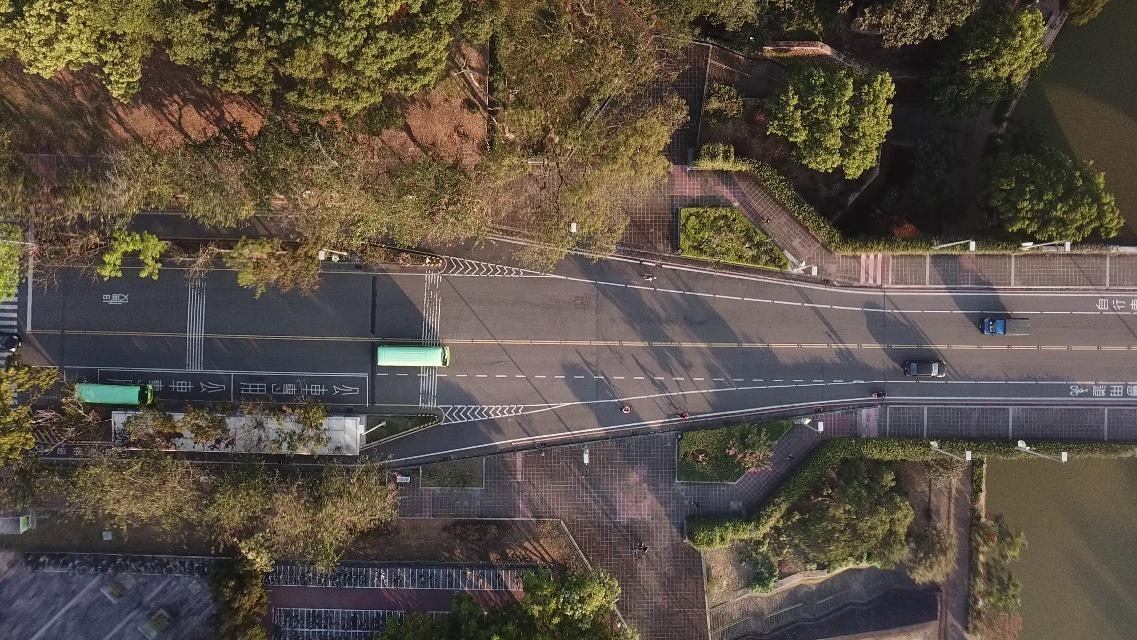Bus: (76, 382, 154, 404), (378, 346, 451, 366)
Car: (904, 358, 946, 380)
